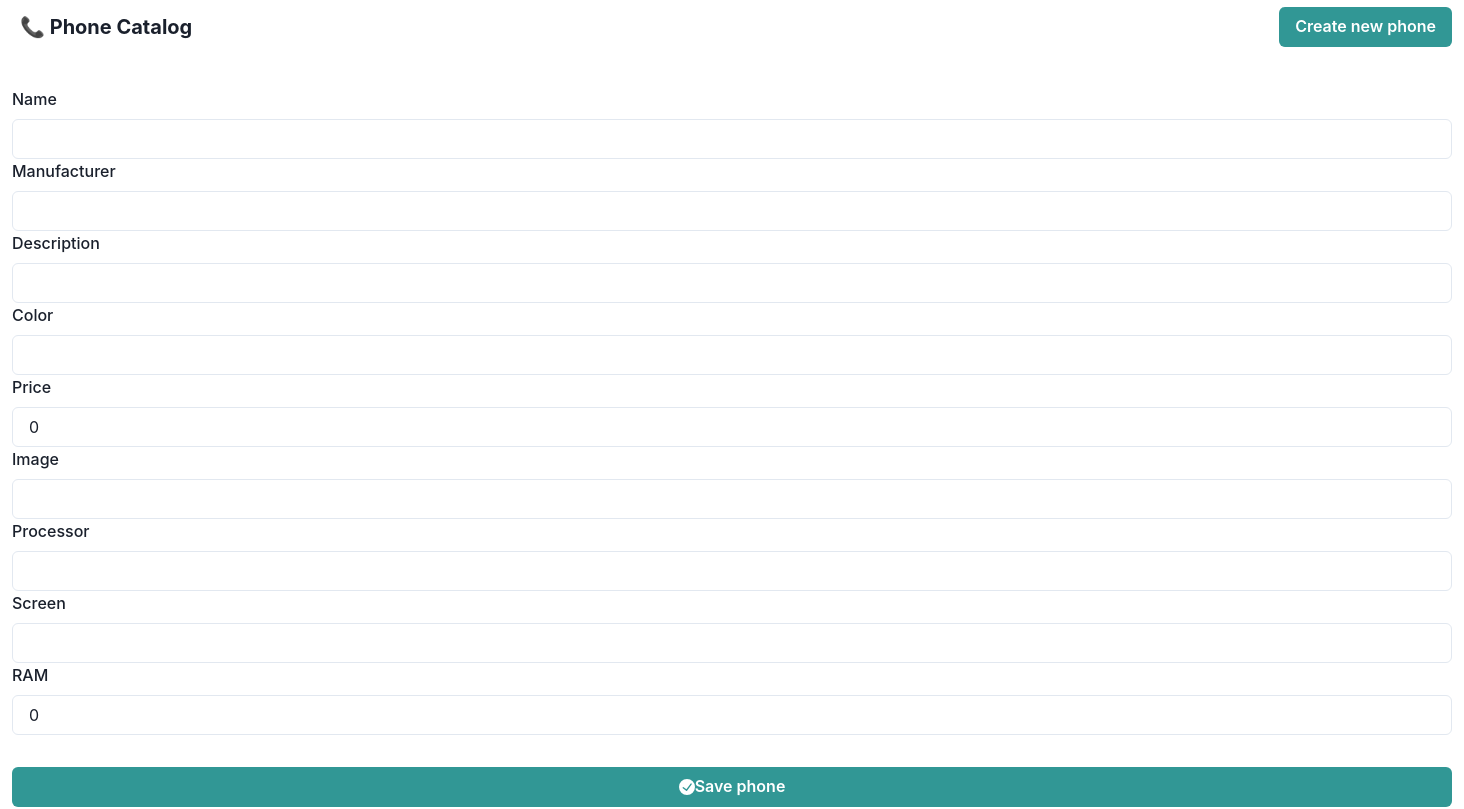
Scenario: PhoneDetailPage › shows the validation error if the user tries to submit the form without completing it
Click the button "Save phone": (732, 787) [12, 767, 1452, 807]
(page scrolled)
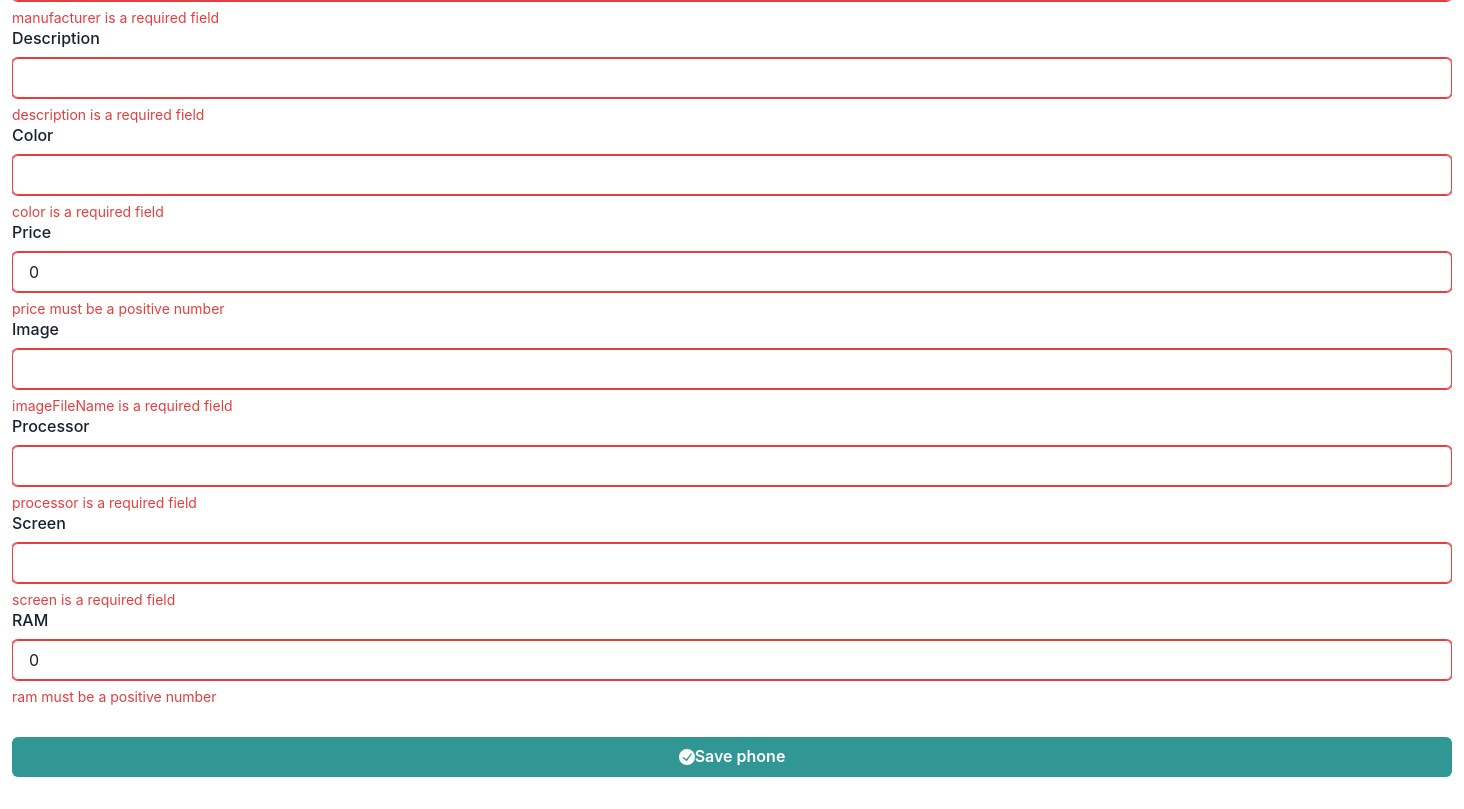
Result: the text "manufacturer is a required field" is shown at [12, 9, 219, 26]
Result: the text "description is a required field" is shown at [12, 106, 204, 123]
Result: the text "color is a required field" is shown at [12, 203, 164, 220]
